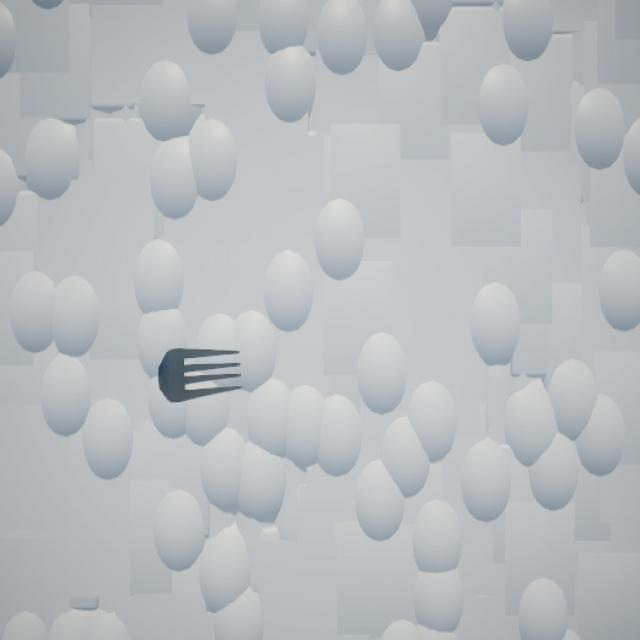top_folk: (159, 350, 243, 405)
